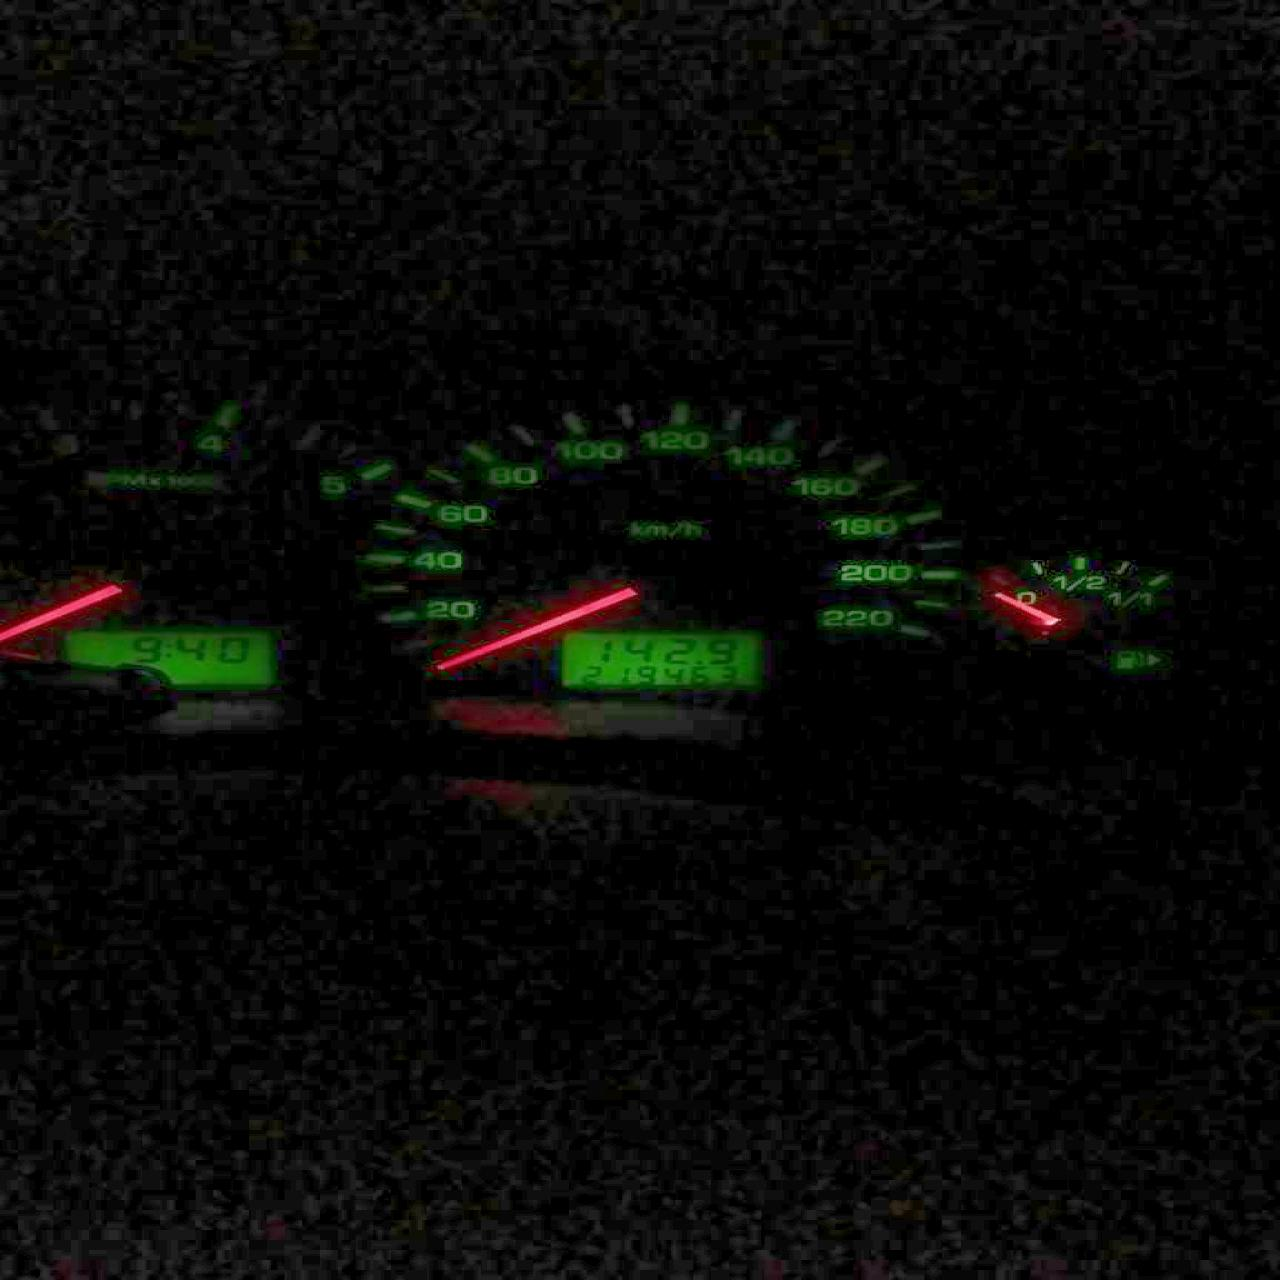-: (692, 658, 702, 663)
1: (595, 636, 613, 661), (615, 663, 632, 685)
2: (660, 635, 693, 663), (578, 663, 602, 685)
3: (719, 665, 738, 685)
4: (620, 638, 653, 661), (660, 665, 682, 685)
6: (687, 665, 712, 685)
9: (704, 636, 740, 663), (633, 663, 658, 685)
odometer: (558, 629, 760, 689)
